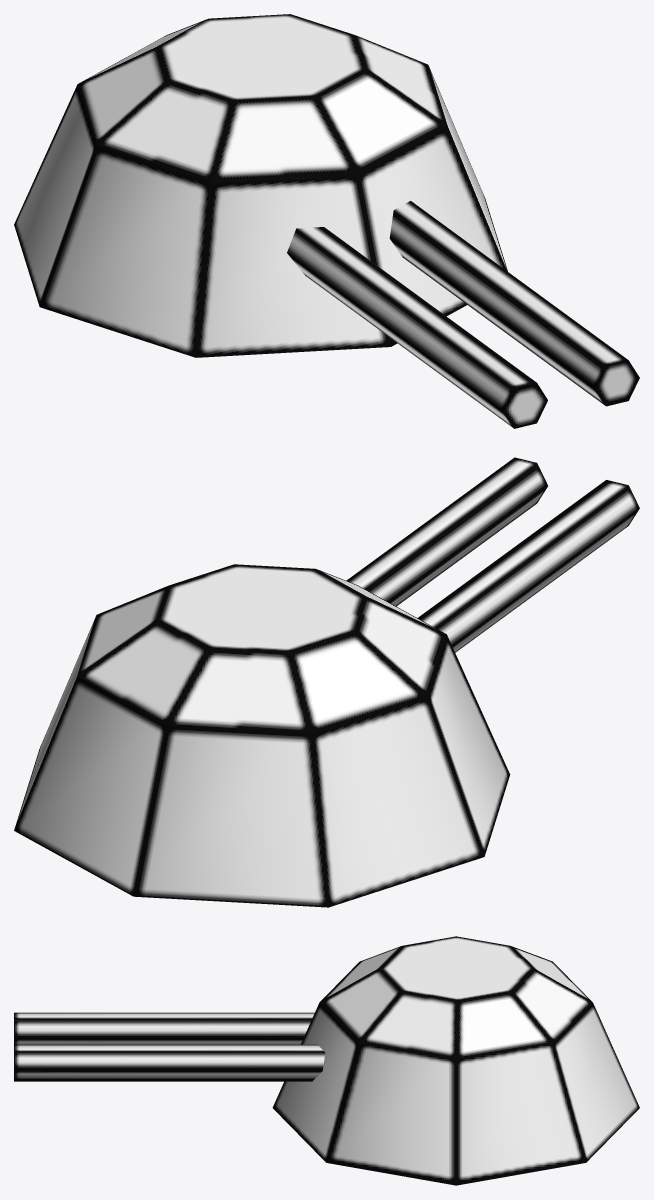
File: Turret2.obj
3 views of the same model, one above another, from view 1: azimuth 30°, elevation 25°; view 2: azimuth 150°, elevation 25°; view 3: azimuth 270°, elevation 25° (orthographic). The views are drawn at different scales.
Parts seen in each view (by area): view 1: Cylinder03; view 2: Cylinder03; view 3: Cylinder03.
Part boxes in pixels (box(x1,y1,x2,y2)): Cylinder03: box(14, 14, 639, 428); Cylinder03: box(14, 457, 639, 907); Cylinder03: box(14, 936, 639, 1185).
Bounding box in the file's own units: 1.98 × 0.8279 × 3.38.
1 material, 1 textured.
